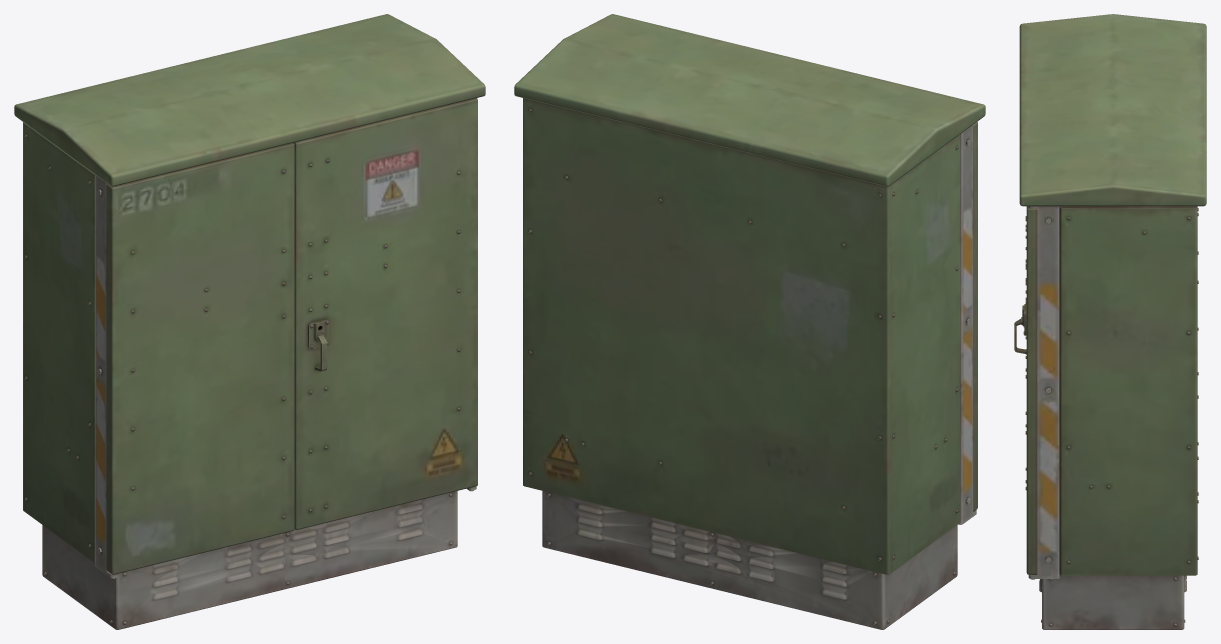
The model's file is prop-utilitybox.glb.
The picture shows the model from 3 angles, left to right: view 1: azimuth 30°, elevation 25°; view 2: azimuth 150°, elevation 25°; view 3: azimuth 270°, elevation 25°; orthographic projection. The views are drawn at different scales.
Parts seen in each view (by area): view 1: prop-utilitybox; view 2: prop-utilitybox; view 3: prop-utilitybox.
Boxes of the visible parts, x1,y1,x2,y2 form: prop-utilitybox: (14,14,485,629); prop-utilitybox: (514,14,985,629); prop-utilitybox: (1014,14,1206,629).
Bounding box in the file's own units: 0.92 × 1.12 × 0.4319.
1 material, 1 textured.
